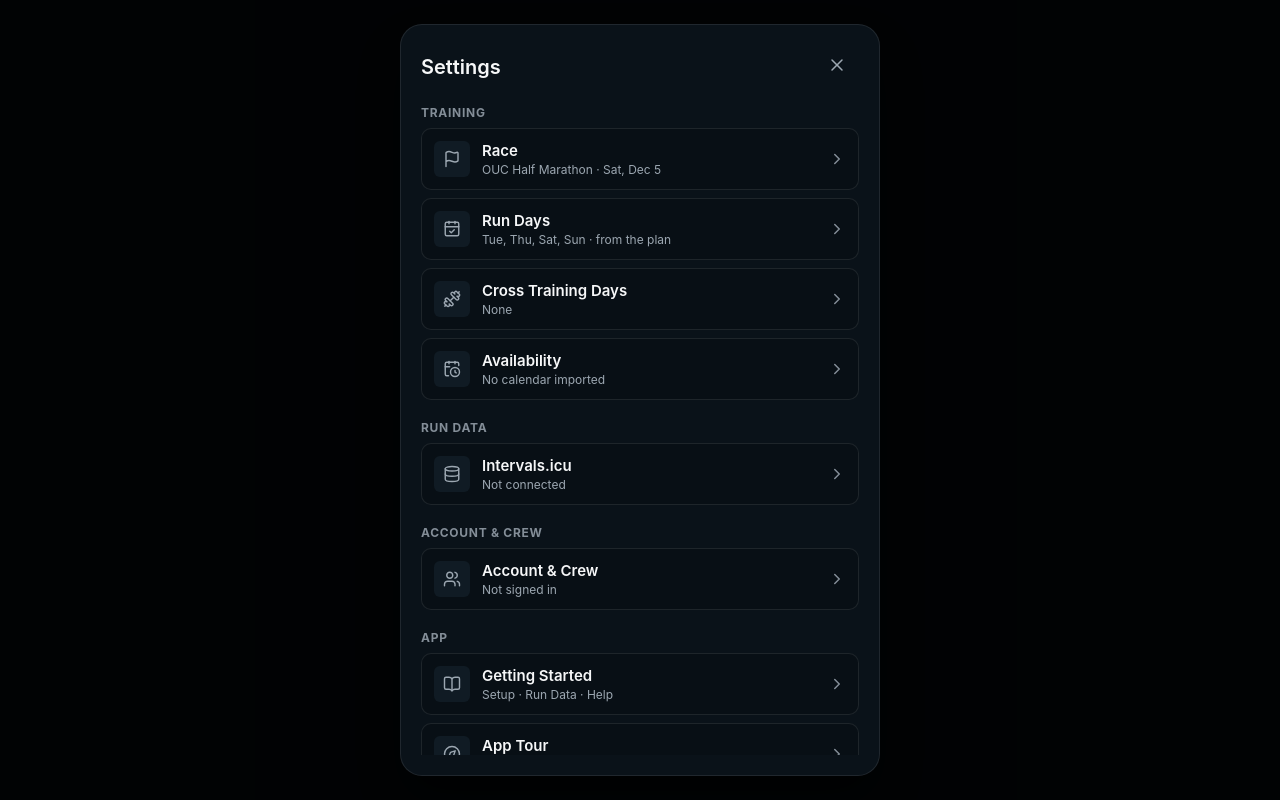
Test: choosing which days get Cross Training › never offers to fill a day that already runs
The width and height of the screenshot is (1280, 800).
Tuesday already runs every week in the seed plan.
Click the button "Cross Training Days None".
click(452, 299)  # box [421,268,859,330]
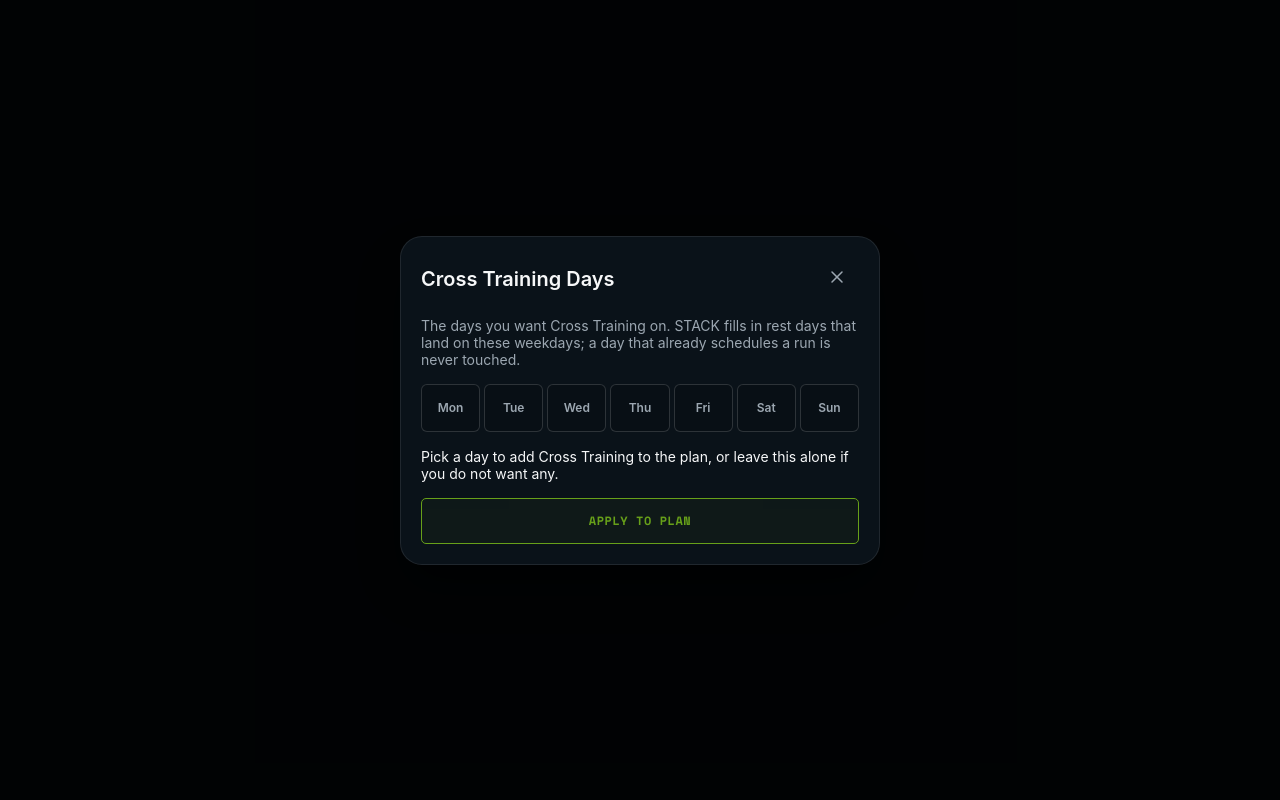
Click the button named "Tuesday".
click(514, 408)  # box [484,384,543,432]
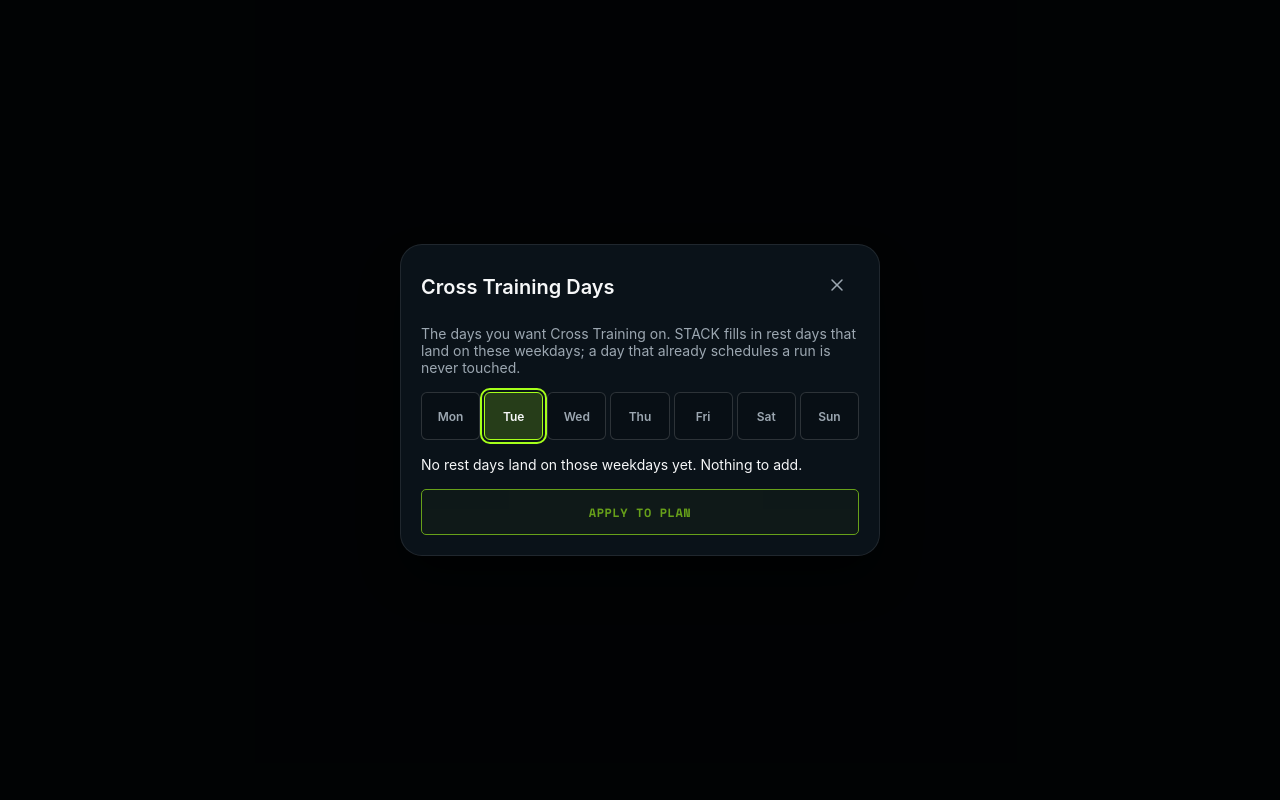
Expected: the button "Apply to Plan" is disabled, [421,489,859,535]
Expected: the text "No rest days land on those weekdays yet. Nothing to add." is shown, [421,456,859,473]
